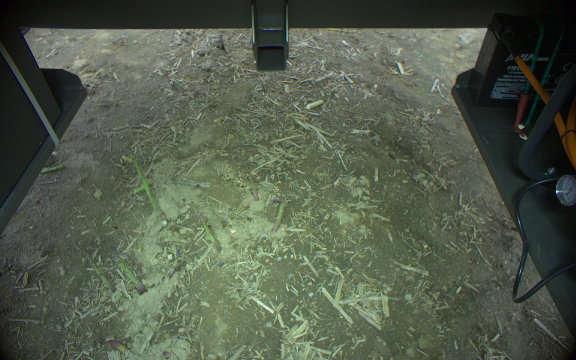aspa: (125, 149, 157, 210), (111, 250, 146, 293), (83, 250, 114, 293), (197, 213, 221, 251), (271, 196, 286, 230), (245, 172, 260, 201), (165, 248, 179, 278), (106, 338, 129, 352), (304, 96, 324, 112)
